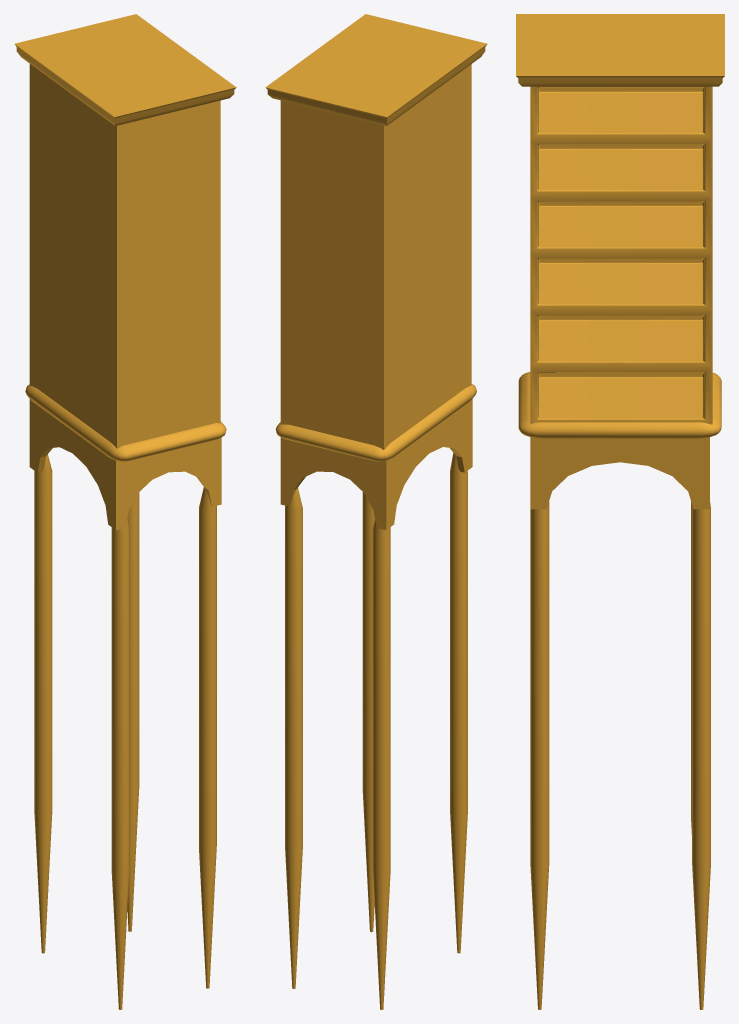
File: mueble2.fbx
The picture shows the model from 3 angles, left to right: view 1: azimuth 30°, elevation 25°; view 2: azimuth 150°, elevation 25°; view 3: azimuth 270°, elevation 25°; orthographic projection. The views are drawn at different scales.
Visible parts, largest first — view 1: Cube.003, Cube.002, Cylinder.002, Cylinder.001, Cylinder, Cylinder.007, Cylinder.004, Cube.001; view 2: Cube.003, Cube.002, Cylinder.002, Cylinder.004, Cylinder.001, Cylinder.007, Cylinder, Cube.001; view 3: Cube.003, Cube.002, Cylinder, Cylinder.004, Cylinder.007, Cube.001.
Boxes of the visible parts, x1=… form: Cube.003: x1=29, y1=64, x2=220, y2=448; Cube.002: x1=14, y1=14, x2=236, y2=125; Cylinder.002: x1=34, y1=454, x2=52, y2=953; Cylinder.001: x1=111, y1=518, x2=129, y2=1009; Cylinder: x1=199, y1=487, x2=216, y2=988; Cylinder.007: x1=29, y1=399, x2=221, y2=530; Cylinder.004: x1=127, y1=492, x2=139, y2=931; Cube.001: x1=25, y1=384, x2=226, y2=461; Cube.003: x1=280, y1=64, x2=471, y2=449; Cube.002: x1=265, y1=14, x2=487, y2=125; Cylinder.002: x1=372, y1=519, x2=390, y2=1009; Cylinder.004: x1=285, y1=488, x2=302, y2=988; Cylinder.001: x1=450, y1=453, x2=467, y2=953; Cylinder.007: x1=280, y1=399, x2=472, y2=529; Cylinder: x1=362, y1=492, x2=374, y2=932; Cube.001: x1=275, y1=384, x2=476, y2=461; Cube.003: x1=530, y1=86, x2=712, y2=424; Cube.002: x1=516, y1=14, x2=724, y2=86; Cylinder: x1=530, y1=503, x2=549, y2=1009; Cylinder.004: x1=692, y1=502, x2=710, y2=1009; Cylinder.007: x1=530, y1=437, x2=709, y2=509; Cube.001: x1=518, y1=372, x2=721, y2=438.
Size of the model in its own units: 4.99 by 35.37 by 7.11.
